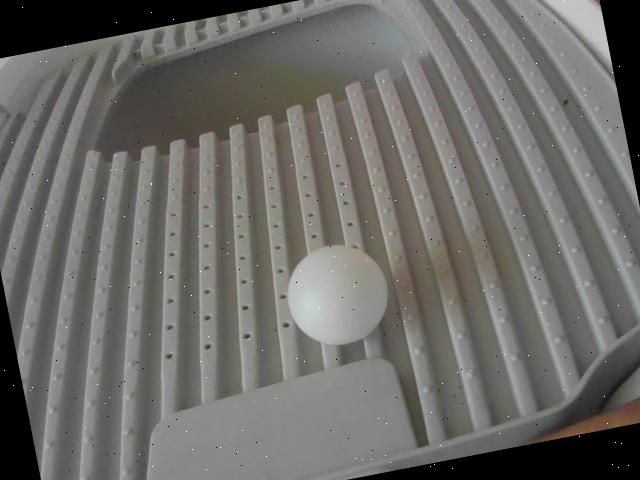ball: (277, 233, 396, 354)
